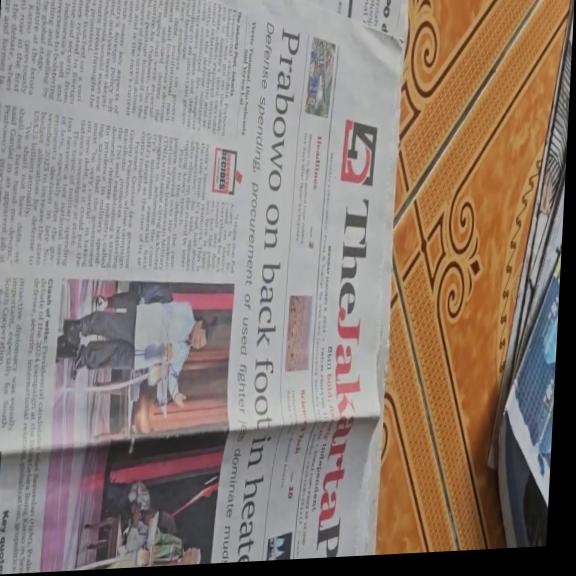Kertas: (0, 0, 410, 560)
